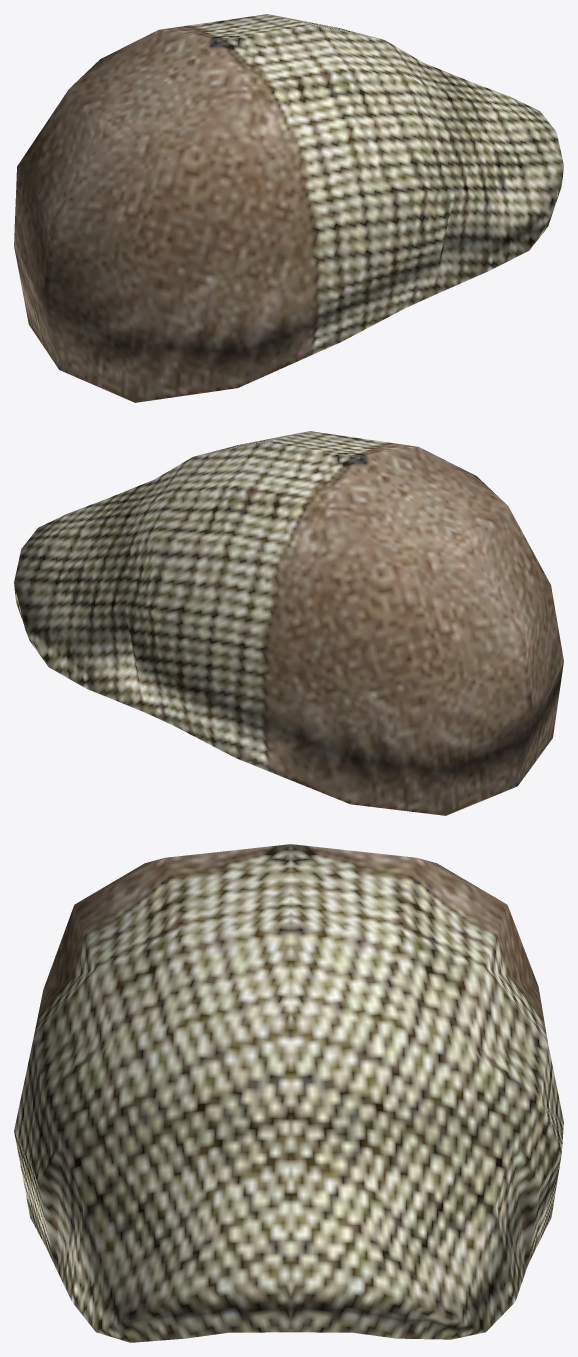
The model's file is hat_0400034.FBX.
3 renders of one model, top to bottom at view 1: azimuth 30°, elevation 25°; view 2: azimuth 150°, elevation 25°; view 3: azimuth 270°, elevation 25°, orthographic. The views are drawn at different scales.
Parts seen in each view (by area): view 1: hat_0400034; view 2: hat_0400034; view 3: hat_0400034.
Boxes of the visible parts, <box> form: hat_0400034: <box>14,14,563,402</box>; hat_0400034: <box>14,431,563,815</box>; hat_0400034: <box>14,844,563,1342</box>.
Size of the model in its own units: 34.55 by 19.4 by 23.06.
